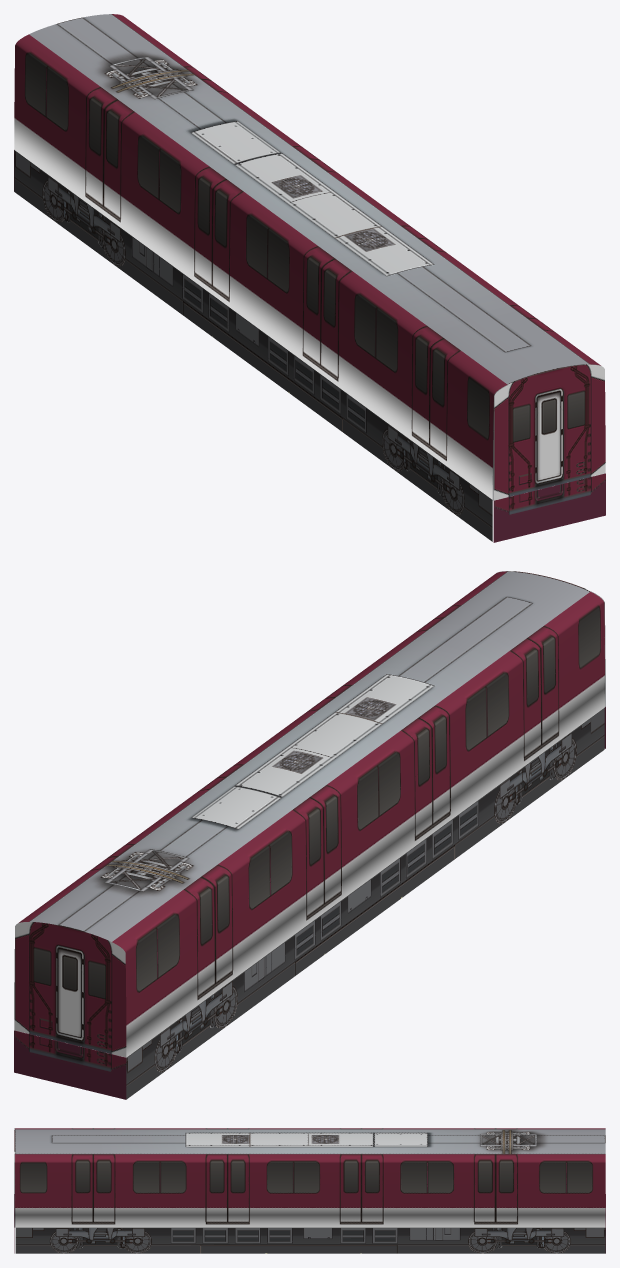
File: car3.glb
The picture shows the model from 3 angles, top to bottom: view 1: azimuth 30°, elevation 25°; view 2: azimuth 150°, elevation 25°; view 3: azimuth 270°, elevation 25°; orthographic projection. The views are drawn at different scales.
Visible parts, largest first — view 1: kintetsu-5800-car3; view 2: kintetsu-5800-car3; view 3: kintetsu-5800-car3.
Boxes of the visible parts, x1,y1,x2,y2 form: kintetsu-5800-car3: [14, 14, 605, 542]; kintetsu-5800-car3: [14, 571, 605, 1099]; kintetsu-5800-car3: [14, 1128, 605, 1253].
Size of the model in its own units: 2.8 by 3.77 by 20.75.
8 materials, 7 textured.
